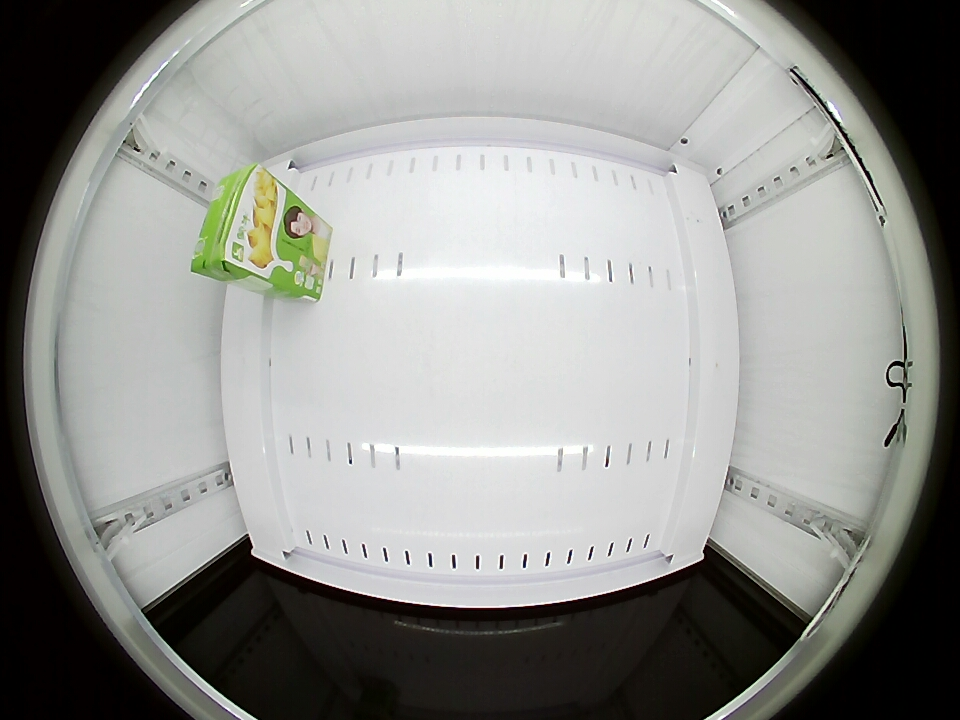mengniuzaocan: (195, 164, 284, 282)
